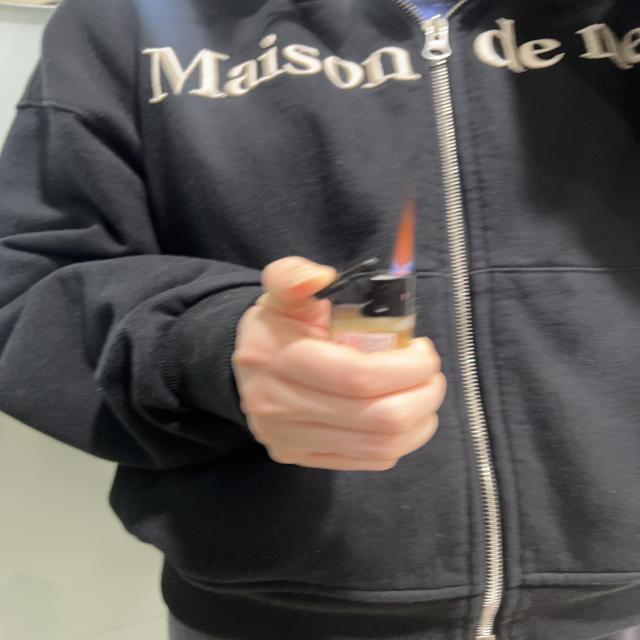fire: (394, 210, 416, 274)
